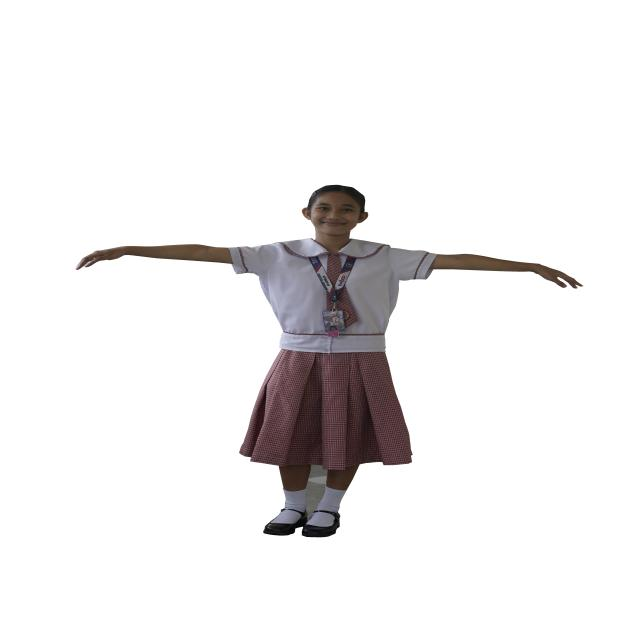id lace: (308, 256, 357, 337)
pologirl: (229, 238, 436, 353), (337, 287, 357, 326), (327, 254, 342, 286), (327, 293, 332, 306)
shoes: (263, 515, 339, 537)
skirt: (240, 349, 412, 470)
